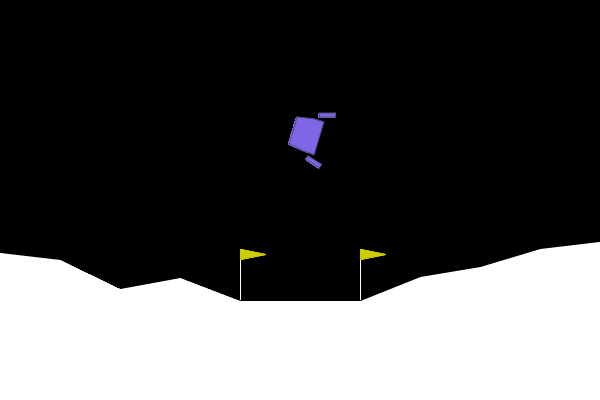lander: (282, 101, 337, 170)
